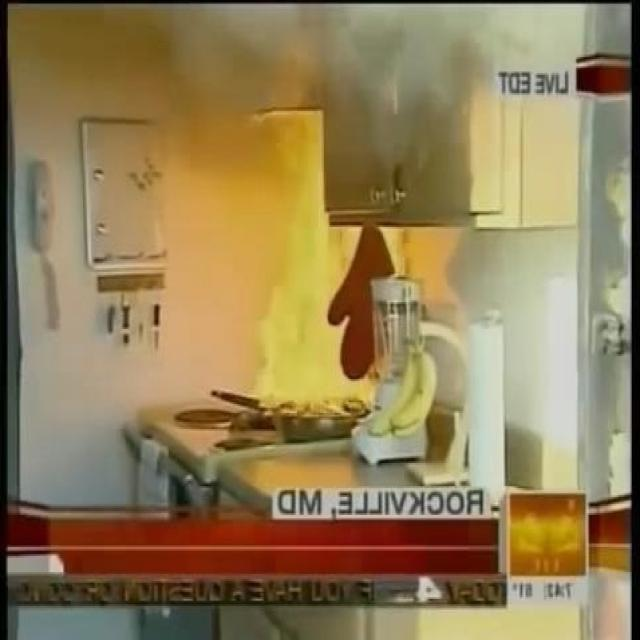fire: (218, 64, 430, 437)
